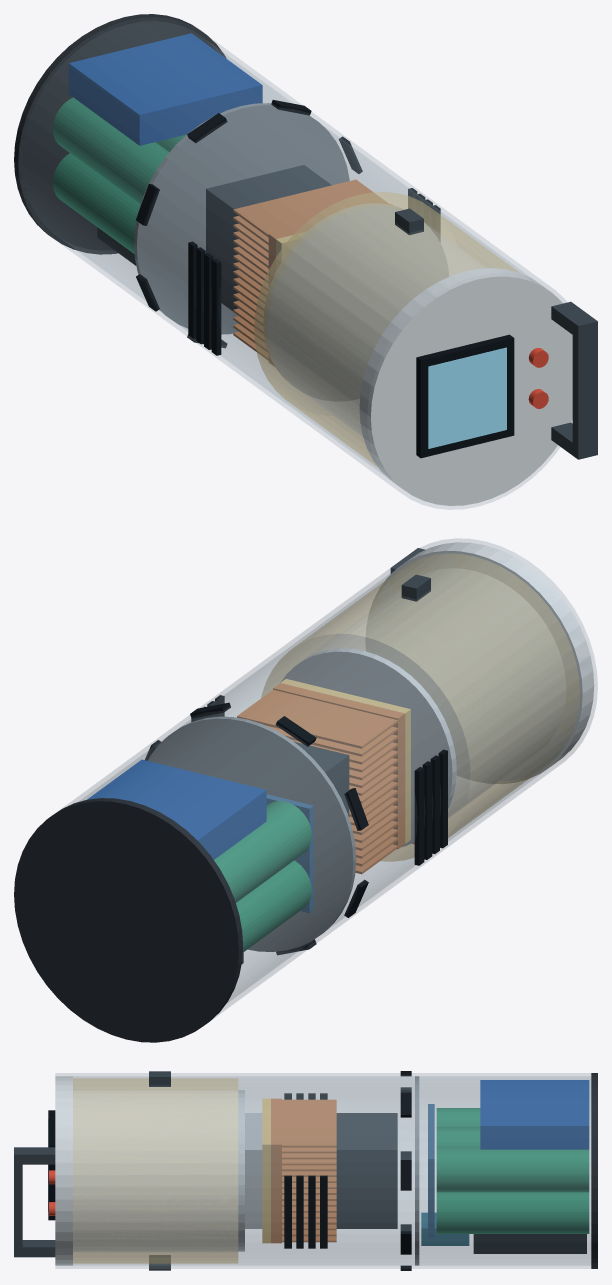
Rendered from thermox_bottle.obj.
3 renders of one model, top to bottom at view 1: azimuth 30°, elevation 25°; view 2: azimuth 150°, elevation 25°; view 3: azimuth 270°, elevation 25°, orthographic. The views are drawn at different scales.
Parts seen in each view (by area): view 1: shell, insulation_sleeve, lid, cup_wall, cup_floor, bulkhead, bts7960, base_pad, oled_screen, cell_12, cell_11, fin_17 (+10 smaller); view 2: shell, base_pad, insulation_sleeve, lid, cup_wall, bulkhead, bts7960, cup_floor, cell_12, fin_17, cell_11, heatsink_base (+8 smaller); view 3: shell, insulation_sleeve, cup_wall, bts7960, cell_32, cell_31, fan_frame_d, lid, fin_17, fan_frame_b, esp32_30pin, water_plate (+29 smaller).
Boxes of the visible parts, x1=… form: shell: x1=19, y1=17, x2=572, y2=509; insulation_sleeve: x1=254, y1=192, x2=519, y2=466; lid: x1=359, y1=268, x2=572, y2=505; cup_wall: x1=268, y1=206, x2=485, y2=436; cup_floor: x1=263, y1=203, x2=448, y2=400; bulkhead: x1=134, y1=103, x2=349, y2=334; bts7960: x1=68, y1=33, x2=262, y2=145; base_pad: x1=14, y1=14, x2=225, y2=254; oled_screen: x1=428, y1=347, x2=506, y2=448; cell_12: x1=53, y1=97, x2=169, y2=204; cell_11: x1=53, y1=153, x2=140, y2=253; fin_17: x1=233, y1=179, x2=388, y2=237; shell: x1=62, y1=538, x2=597, y2=1017; base_pad: x1=14, y1=798, x2=242, y2=1042; insulation_sleeve: x1=261, y1=553, x2=579, y2=861; lid: x1=366, y1=542, x2=594, y2=783; cup_wall: x1=310, y1=568, x2=565, y2=817; bulkhead: x1=148, y1=716, x2=356, y2=951; bts7960: x1=87, y1=759, x2=266, y2=859; cup_floor: x1=280, y1=648, x2=456, y2=847; cell_12: x1=214, y1=801, x2=311, y2=902; fin_17: x1=237, y1=689, x2=397, y2=748; cell_11: x1=236, y1=860, x2=311, y2=952; heatsink_base: x1=273, y1=683, x2=405, y2=849; shell: x1=55, y1=1073, x2=591, y2=1268; insulation_sleeve: x1=73, y1=1078, x2=238, y2=1263; cup_wall: x1=73, y1=1090, x2=237, y2=1251; bts7960: x1=480, y1=1080, x2=589, y2=1149; cell_32: x1=436, y1=1146, x2=589, y2=1192; cell_31: x1=436, y1=1192, x2=589, y2=1233; fan_frame_d: x1=336, y1=1156, x2=397, y2=1222; lid: x1=55, y1=1076, x2=72, y2=1265; fin_17: x1=282, y1=1099, x2=336, y2=1147; fan_frame_b: x1=336, y1=1113, x2=397, y2=1155; esp32_30pin: x1=473, y1=1234, x2=586, y2=1253; water_plate: x1=245, y1=1113, x2=262, y2=1228.
Bounding box in the file's own units: 91.2 × 98 × 268.
